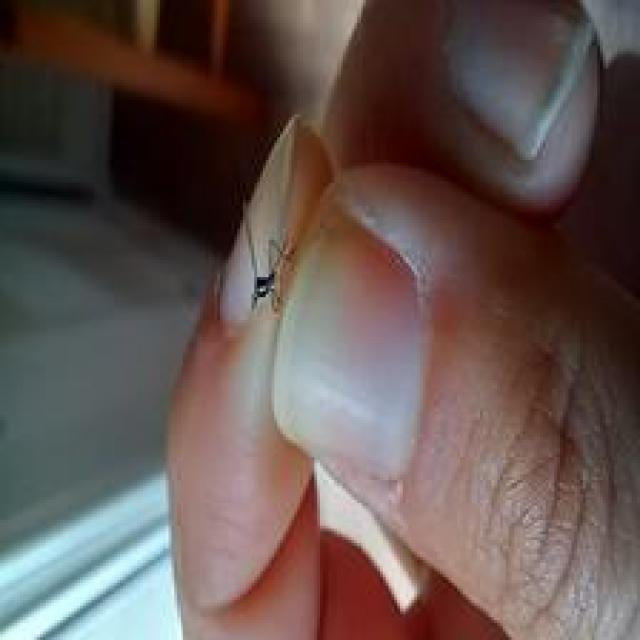Aedes albopictus: (235, 111, 436, 614)
